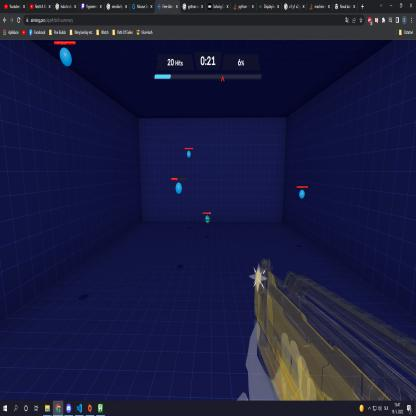sphere: (59, 46, 73, 68), (175, 182, 183, 194), (298, 190, 306, 200), (204, 215, 210, 224), (186, 150, 192, 158)
